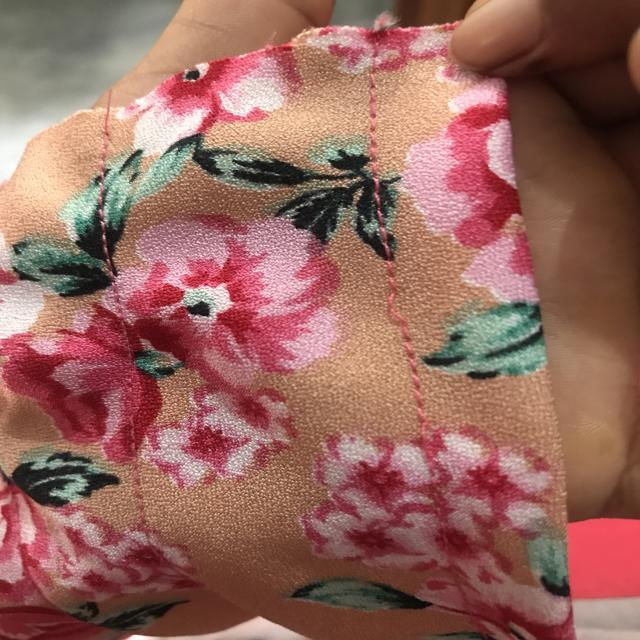skip: (377, 286, 420, 336)
